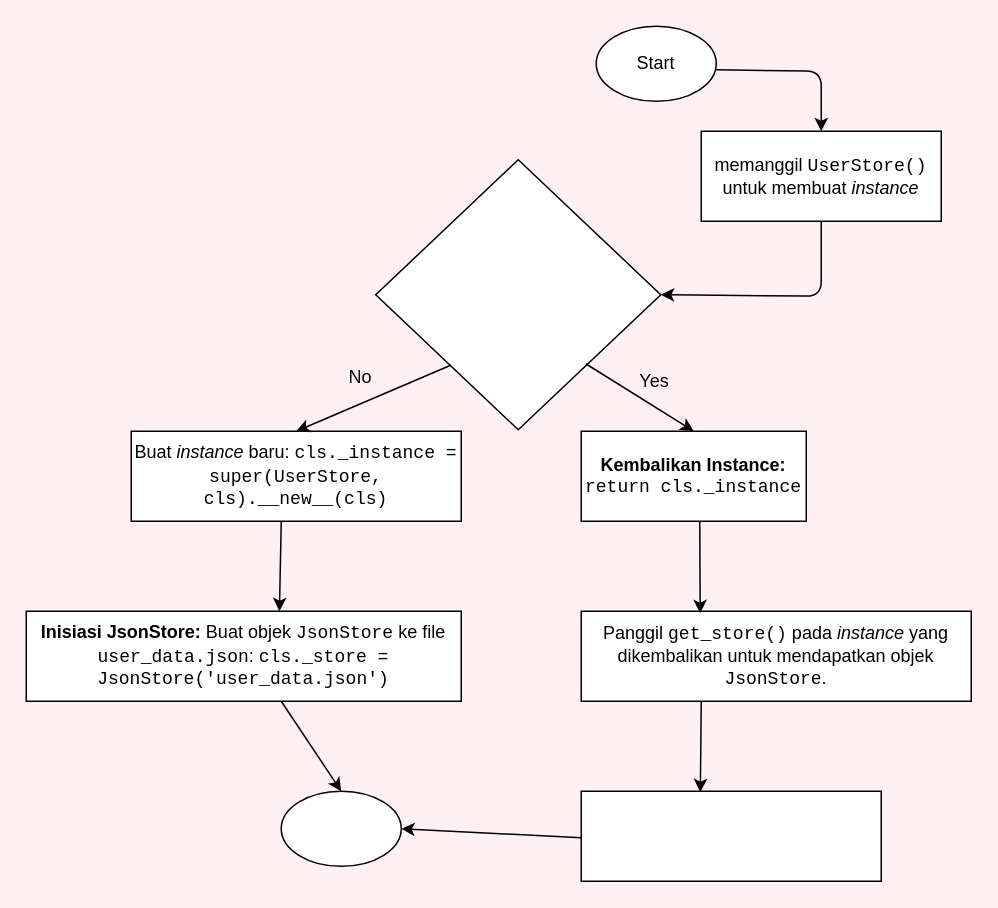
Image size: 998x908. Some labels were removed from this diagram. The shapes that lost their labels are listed below. From the top down, each one's box as (x1, y1, x2, y2) in pixels, then its label:
(374, 158, 661, 430): Apakah _instance (objek tunggal) sudah ada ( cls._instance is None )?
(280, 790, 401, 866): End
(580, 790, 881, 881): Objek JsonStore disimpan ke variabel global user_store .
